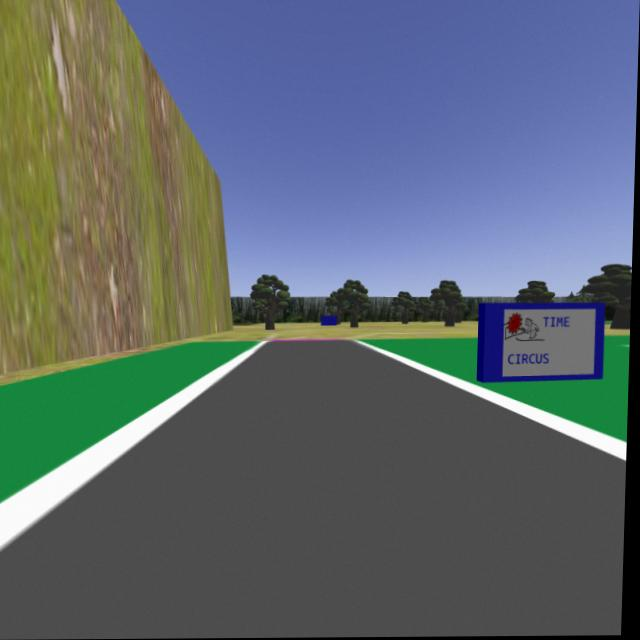clueboard: (472, 296, 613, 387)
